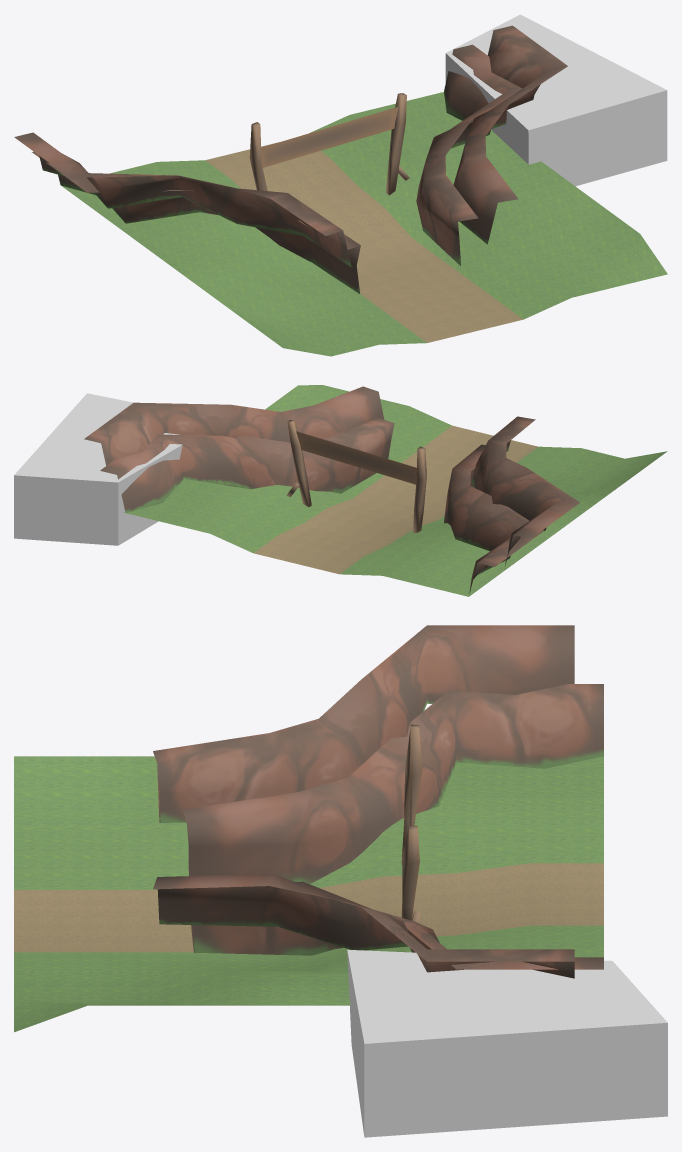
File: finish.glb
3 views of the same model, one above another, from view 1: azimuth 30°, elevation 25°; view 2: azimuth 150°, elevation 25°; view 3: azimuth 270°, elevation 25° (orthographic). The views are drawn at different scales.
Parts seen in each view (by area): view 1: Plane_t-col, MurPierre.001, colB-convcolonly.001, Barrrieire.001; view 2: Plane_t-col, MurPierre.001, colB-convcolonly.001, Barrrieire.001; view 3: Plane_t-col, MurPierre.001, colB-convcolonly.001, Barrrieire.001.
Part boxes in pixels (box(x1,y1,x2,y2)): Plane_t-col: box(61, 92, 667, 356); MurPierre.001: box(14, 25, 567, 293); colB-convcolonly.001: box(445, 14, 667, 186); Barrrieire.001: box(249, 93, 409, 195); Plane_t-col: box(124, 385, 667, 596); MurPierre.001: box(84, 386, 579, 595); colB-convcolonly.001: box(14, 393, 182, 545); Barrrieire.001: box(287, 420, 426, 533); Plane_t-col: box(14, 756, 603, 1032); MurPierre.001: box(153, 625, 603, 978); colB-convcolonly.001: box(347, 949, 667, 1137); Barrrieire.001: box(401, 724, 422, 922).
Size of what is drawn, in the model's own units: 59.65 by 11.82 by 44.33.
4 materials, 4 textured.
